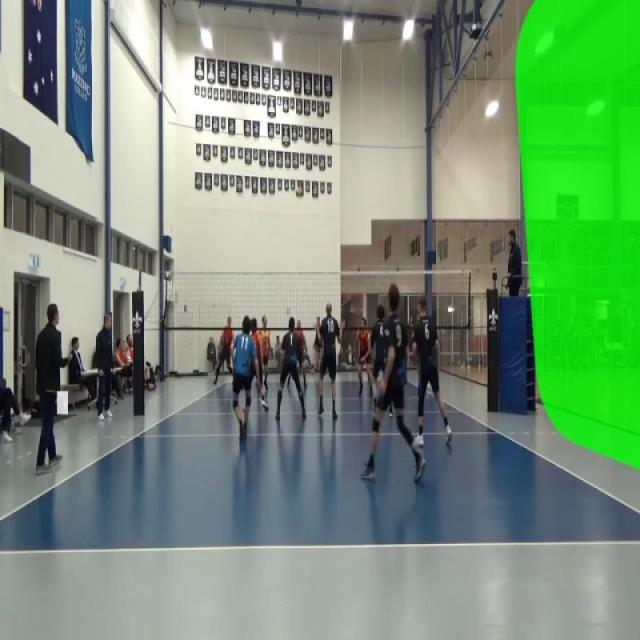volleyball: (295, 183, 302, 197)
